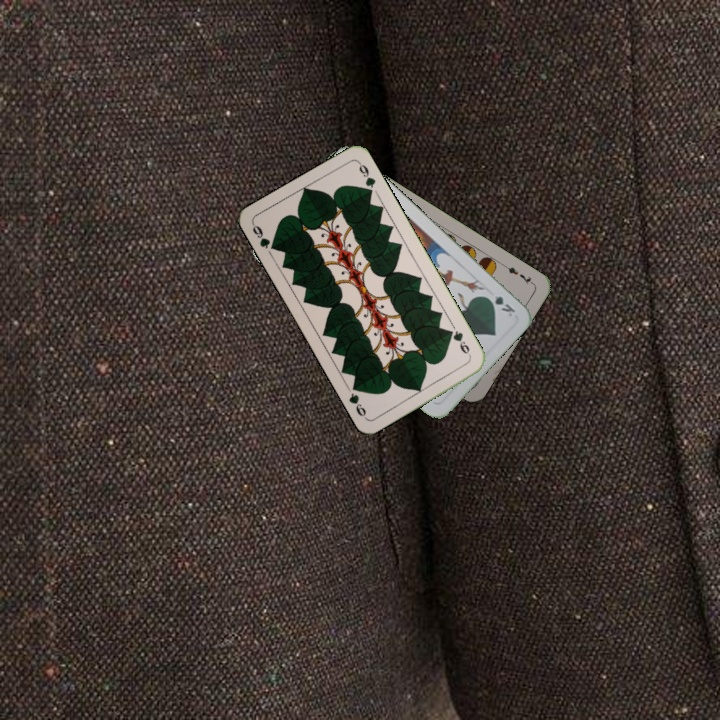E7: (500, 260, 536, 287)
G9: (248, 220, 280, 253), (444, 326, 473, 360)
GK: (481, 290, 518, 319)
